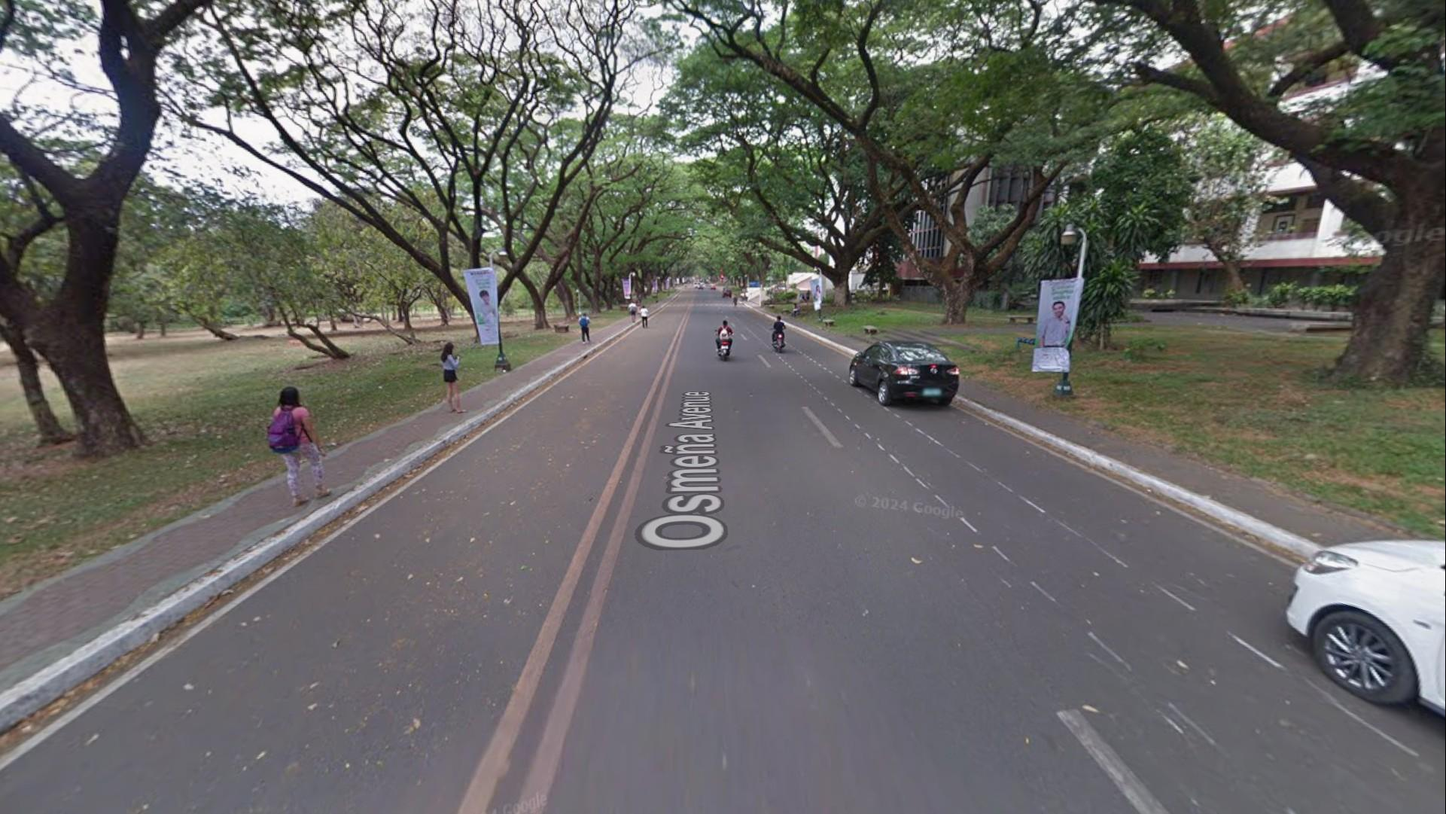pedestrian: (266, 384, 333, 512), (439, 341, 469, 415), (578, 310, 593, 345), (638, 304, 649, 329), (628, 299, 638, 324), (733, 294, 739, 310)
